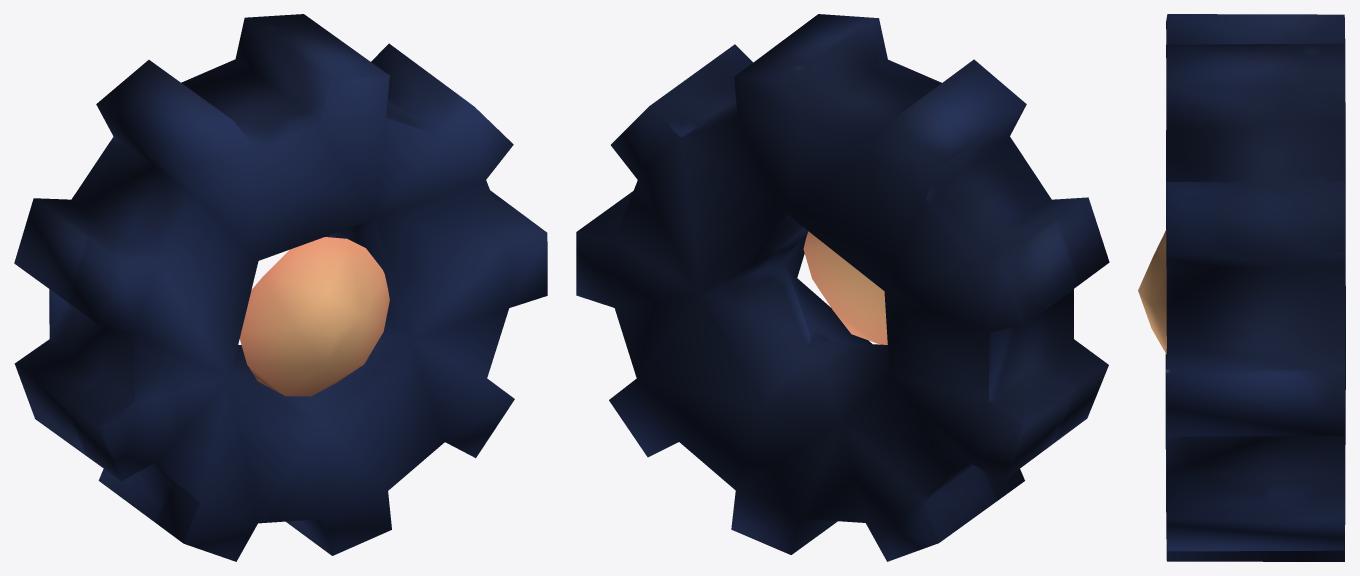
File: yetikart_wheel.fbx
The picture shows the model from 3 angles, left to right: view 1: azimuth 30°, elevation 25°; view 2: azimuth 150°, elevation 25°; view 3: azimuth 270°, elevation 25°; orthographic projection. The views are drawn at different scales.
Visible parts, largest first — view 1: BézierCurve.001; view 2: BézierCurve.001; view 3: BézierCurve.001.
Part boxes in pixels (left/top/right/bottom): BézierCurve.001: left=14, top=14, right=547, bottom=561; BézierCurve.001: left=576, top=14, right=1109, bottom=561; BézierCurve.001: left=1138, top=14, right=1345, bottom=561.
Size of the model in its own units: 128 by 333 by 338.
Materials: 1 (1 with a texture image).
